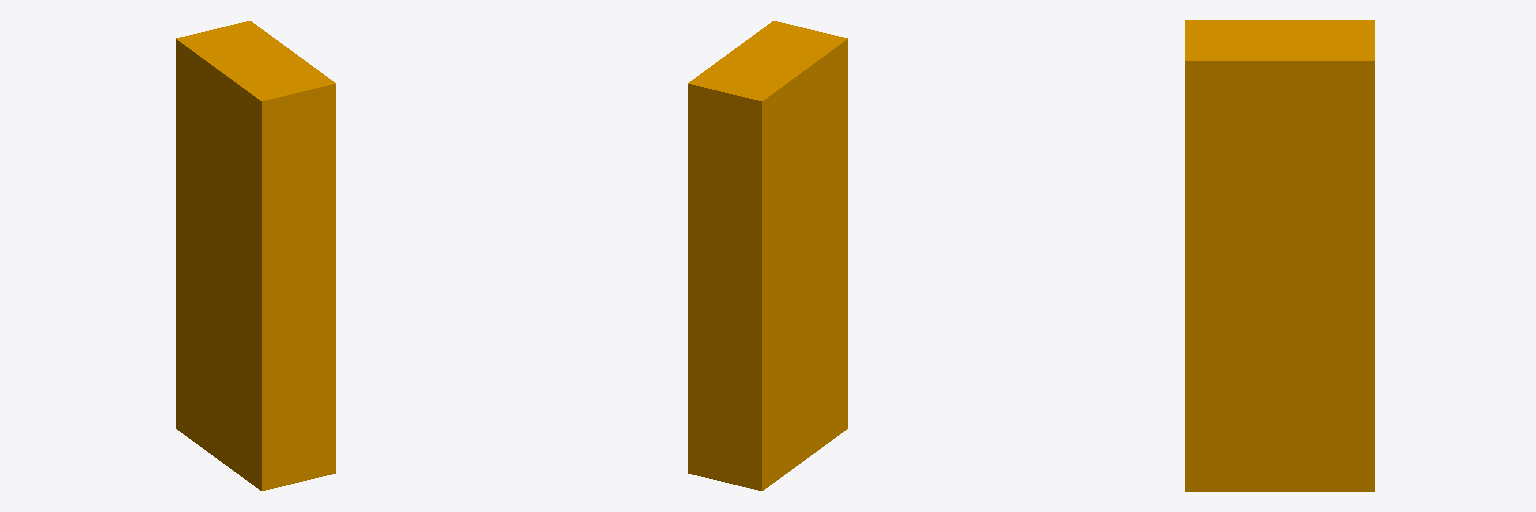
The robot description file, URDF, robot "kinect":
<?xml version="1.0" ?>
<robot name="kinect">
  <link name="kinect_link">
    <visual>
      <origin xyz="0 0 0.025"/>
      <geometry>
        <box size="0.01 0.02 0.05"/>
      </geometry>
    </visual>
    <collision>
      <origin xyz="0 0 0.025"/>
      <geometry>
        <box size="0.01 0.02 0.05"/>
      </geometry>
    </collision>
    
    <!-- For gazebo -->
    <inertial>
      <origin xyz="0 0 0.10" rpy="0 0 0.01"/>
      <mass value="0.4"/>
      <inertia
        ixx="0.1" ixy="0.0" ixz="0.0"
        iyy="0.1" iyz="0.0"
        izz="0.1"/>
    </inertial>
  </link>
  
  
  <!-- KINECT PLUGIN -->
  <gazebo reference="kinect_link">  
    <sensor type="depth" name="camera">
      <visualize>1</visualize>
      <always_on>true</always_on>
      <update_rate>20.0</update_rate>
      <camera>
        <horizontal_fov>1.39626</horizontal_fov> <!-- 80 degrees -->
        <image>
          <format>R8G8B8</format>
          <width>640</width>
          <height>480</height>
        </image>
        <clip>
          <near>0.05</near>
          <far>8.0</far>
        </clip>
      </camera>
      <plugin name="kinect_controller" filename="libgazebo_ros_openni_kinect.so">
        <frameName>camera</frameName>
        <baseline>0.2</baseline>
        <alwaysOn>true</alwaysOn>
        <updateRate>1.0</updateRate>
        <cameraName>kinect_ir</cameraName>
        <imageTopicName>/image_raw</imageTopicName>
        <cameraInfoTopicName>/camera_info</cameraInfoTopicName>
        <depthImageTopicName>/depth/image_raw</depthImageTopicName>
        <depthImageCameraInfoTopicName>/depth/camera_info</depthImageCameraInfoTopicName>
        <pointCloudTopicName>/kinect_ir/points</pointCloudTopicName>
        <pointCloudCutoff>0.5</pointCloudCutoff>
        <distortionK1>0.0</distortionK1>
        <distortionK2>0.0</distortionK2>
        <distortionK3>0.0</distortionK3>
        <distortionT1>0.0</distortionT1>
        <distortionT2>0.0</distortionT2>
        <CxPrime>0</CxPrime>
        <Cx>0</Cx>
        <Cy>0</Cy>
        <focalLength>0</focalLength>
        <hackBaseline>0</hackBaseline>
      </plugin>
    </sensor>
  </gazebo>
  
  <!-- For gazebo: stick the kinect to the ground -->
  <link name="world"/>
  <joint name="world_base" type="fixed">
    <parent link="world"/>
    <child link="kinect_link"/>
    <origin rpy="0 0 0" xyz="0 0 0"/>
  </joint>
</robot>

--- Render facts (derived) ---
The picture shows the robot from 3 angles, left to right: view 1: azimuth 30°, elevation 25°; view 2: azimuth 150°, elevation 25°; view 3: azimuth 270°, elevation 25°; orthographic projection.
Model kinect with 2 links and 1 joints (1 fixed), rooted at world, posed every joint at zero.
Visible links, largest first — view 1: kinect_link; view 2: kinect_link; view 3: kinect_link.
Link boxes in pixels (x1=…): kinect_link: x1=176, y1=21, x2=335, y2=490; kinect_link: x1=688, y1=21, x2=847, y2=490; kinect_link: x1=1185, y1=20, x2=1374, y2=491.
Size in the robot's own frame: 0.01 by 0.02 by 0.05 metres.
Geometry: primitives only (box / cylinder / sphere), no mesh files.
